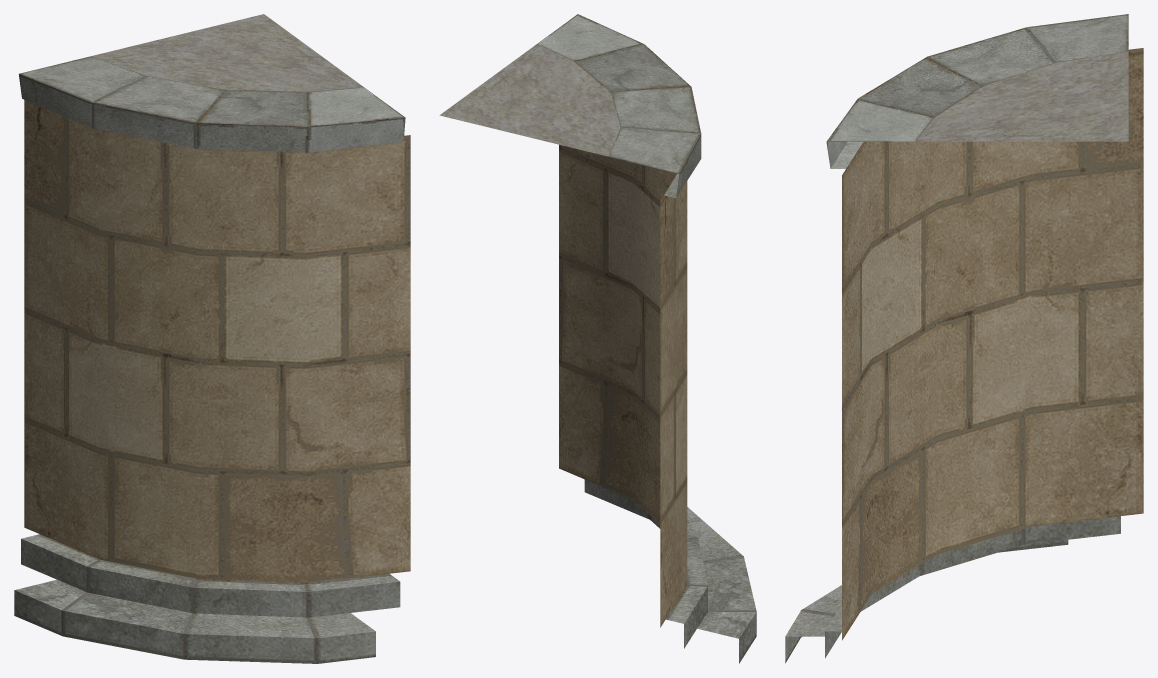
File: block_rnd_crn_fill_1x1.fbx
3 views of the same model, side by side, from view 1: azimuth 30°, elevation 25°; view 2: azimuth 150°, elevation 25°; view 3: azimuth 270°, elevation 25° (orthographic). The views are drawn at different scales.
Visible parts, largest first — view 1: block_rnd_crn_fill_1x1; view 2: block_rnd_crn_fill_1x1; view 3: block_rnd_crn_fill_1x1.
Part boxes in pixels (left/top/right/bottom): block_rnd_crn_fill_1x1: left=14, top=14, right=410, bottom=663; block_rnd_crn_fill_1x1: left=439, top=14, right=756, bottom=663; block_rnd_crn_fill_1x1: left=785, top=14, right=1143, bottom=663.
Size of the model in its own units: 118 by 200 by 119.
